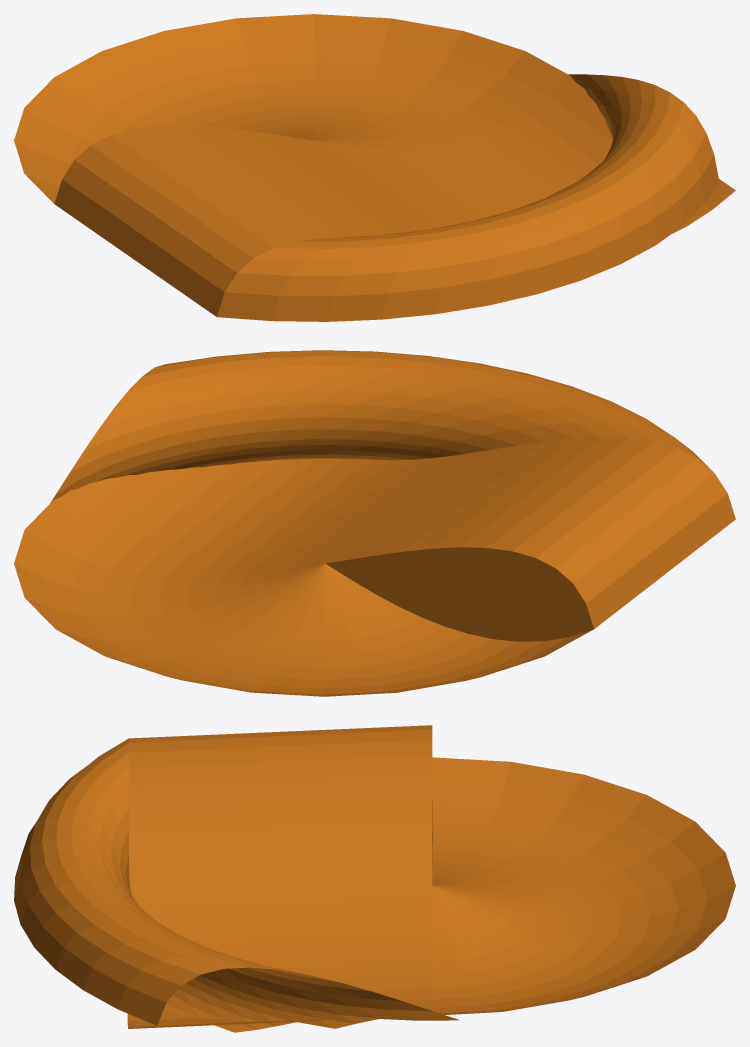
File: spin.obj
3 renders of one model, top to bottom at view 1: azimuth 30°, elevation 25°; view 2: azimuth 150°, elevation 25°; view 3: azimuth 270°, elevation 25°, orthographic. The views are drawn at different scales.
Parts seen in each view (by area): view 1: Ground; view 2: Ground; view 3: Ground.
Part boxes in pixels (<box>): Ground: <box>14,14,735,321</box>; Ground: <box>14,350,735,696</box>; Ground: <box>14,725,735,1032</box>.
Size of the model in its own units: 6.15 by 1.06 by 7.13.
